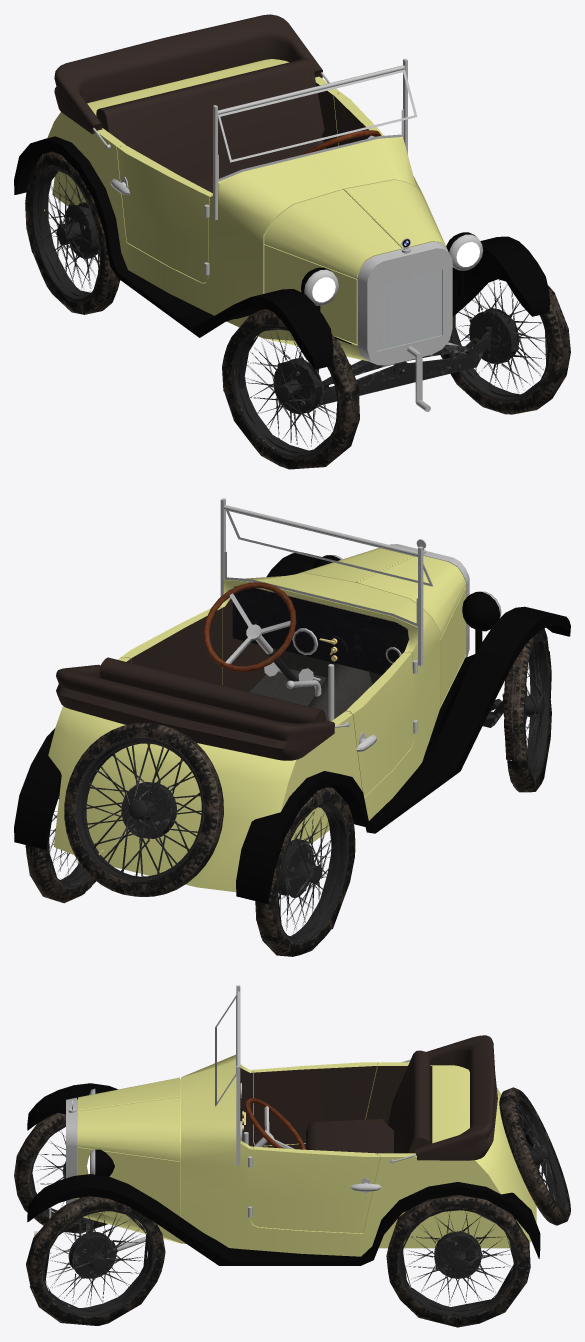
The model's file is dixi.glb.
3 views of the same model, one above another, from view 1: azimuth 30°, elevation 25°; view 2: azimuth 150°, elevation 25°; view 3: azimuth 270°, elevation 25° (orthographic). The views are drawn at different scales.
Visible parts, largest first — view 1: Modell, Vorn_R, Hinten_R, Tuer_R, Vorn_L, Tuer_L; view 2: Modell, Hinten_R, Vorn_R, Tuer_R, Tuer_L, Hinten_L; view 3: Modell, Hinten_L, Tuer_L, Vorn_L, Tuer_R, Vorn_R.
Part boxes in pixels (<box>): Modell: <box>14,14,549,411</box>; Vorn_R: <box>222,309,359,469</box>; Hinten_R: <box>25,151,120,314</box>; Tuer_R: <box>110,146,212,282</box>; Vorn_L: <box>440,280,570,414</box>; Tuer_L: <box>333,92,383,145</box>; Modell: <box>14,498,570,903</box>; Hinten_R: <box>255,787,355,956</box>; Vorn_R: <box>504,628,551,792</box>; Tuer_R: <box>346,652,417,797</box>; Tuer_L: <box>121,607,221,685</box>; Hinten_L: <box>25,796,96,903</box>; Modell: <box>27,985,570,1265</box>; Hinten_L: <box>386,1195,530,1327</box>; Tuer_L: <box>249,1146,381,1233</box>; Vorn_L: <box>26,1196,165,1325</box>; Tuer_R: <box>250,1062,380,1145</box>; Vorn_R: <box>14,1113,107,1233</box>.
Size of what is drawn, in the model's own units: 1.47 by 1.45 by 2.88.
Materials: 5 (2 with a texture image).
